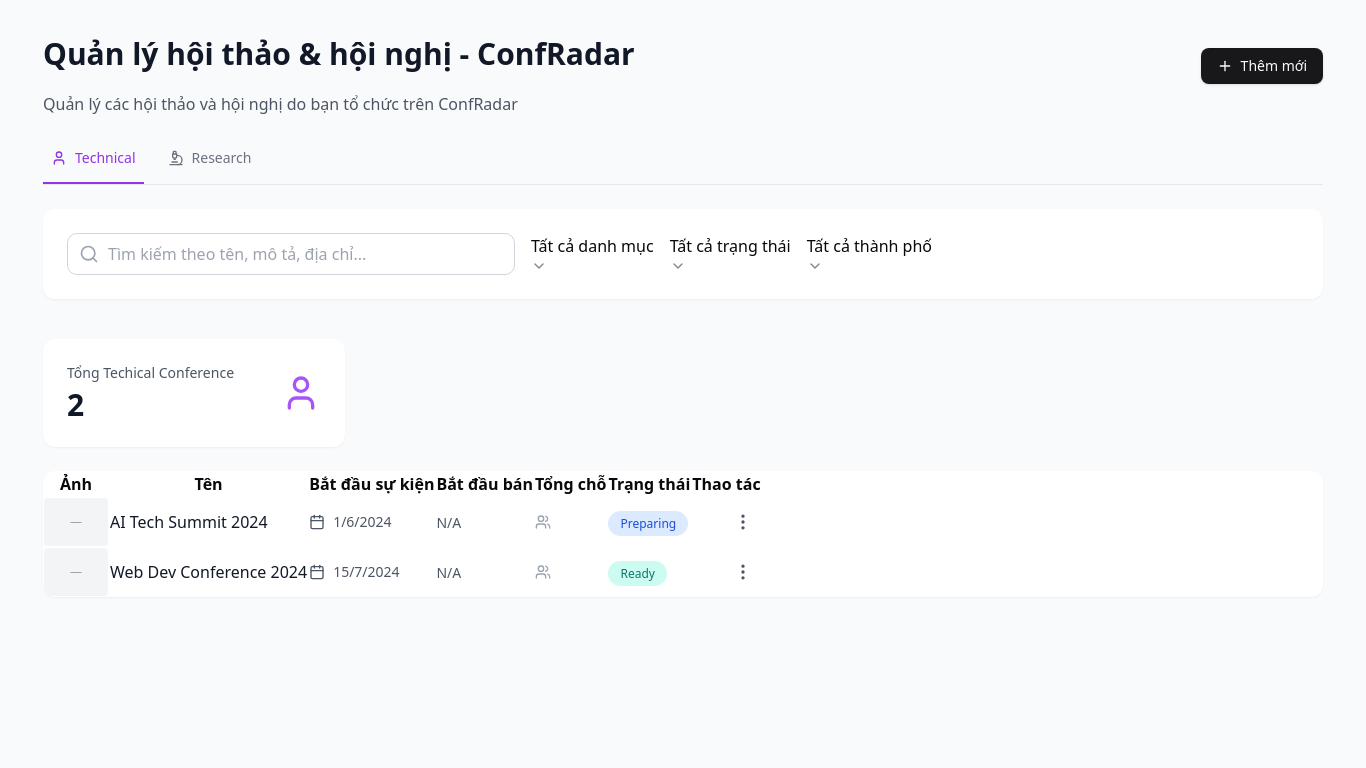
it: ManageConference Component › opens create modal when create button is clicked
Click the button "Thêm mới": [1262, 66] box [1201,48,1323,84]
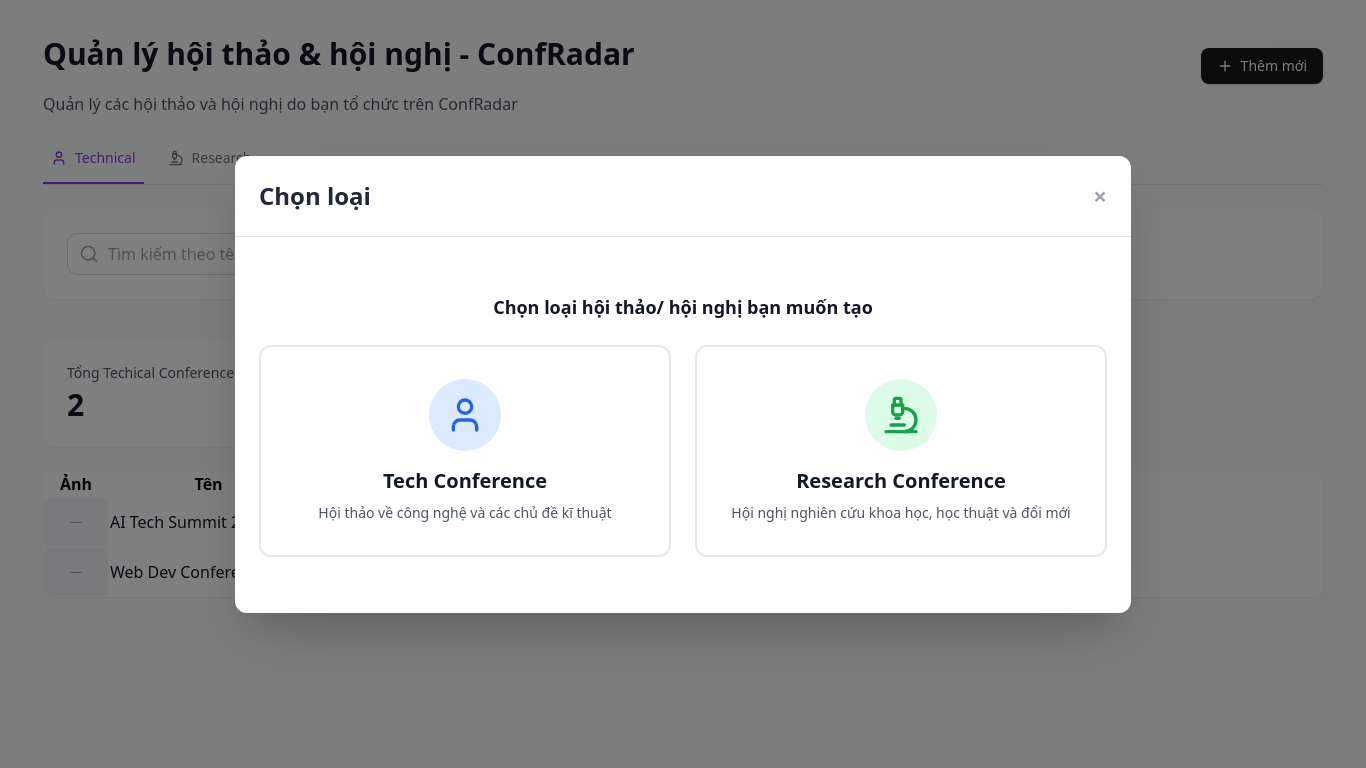
Check: the heading "Chọn loại hội thảo/ hội nghị bạn muốn tạo" is shown, box [493,294,873,318]
